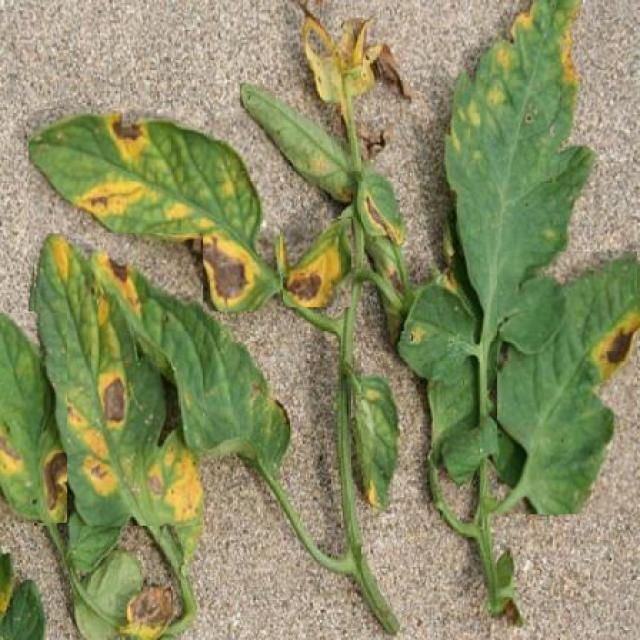Early Blight: (29, 109, 280, 312), (34, 233, 202, 526), (498, 252, 638, 515), (0, 313, 67, 523), (283, 219, 351, 307)
